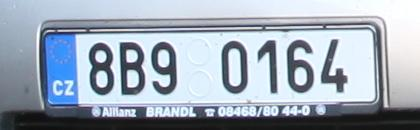0: (221, 41, 247, 94)
1: (258, 40, 277, 94)
4: (320, 40, 347, 94)
6: (286, 40, 313, 93)
8: (89, 43, 114, 95)
9: (151, 41, 176, 94)
B: (119, 42, 144, 94)
